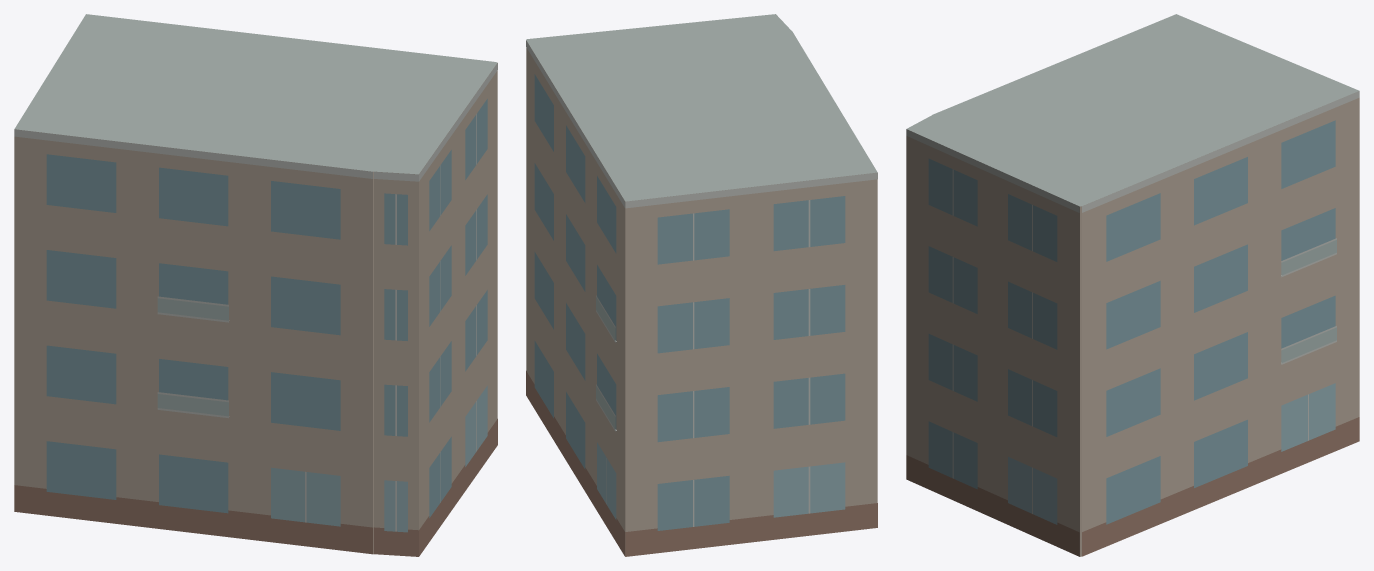
File: survey-upis-32684116.glb
3 renders of one model, left to right at view 1: azimuth 30°, elevation 25°; view 2: azimuth 150°, elevation 25°; view 3: azimuth 270°, elevation 25°, orthographic. The views are drawn at different scales.
Visible parts, largest first — view 1: survey-upis-32684116.tmp; view 2: survey-upis-32684116.tmp; view 3: survey-upis-32684116.tmp.
Boxes of the visible parts, x1=… form: survey-upis-32684116.tmp: x1=14, y1=14, x2=497, y2=556; survey-upis-32684116.tmp: x1=526, y1=14, x2=877, y2=556; survey-upis-32684116.tmp: x1=906, y1=14, x2=1359, y2=556.
Bounding box in the file's own units: 14.97 × 12.7 × 14.9.
